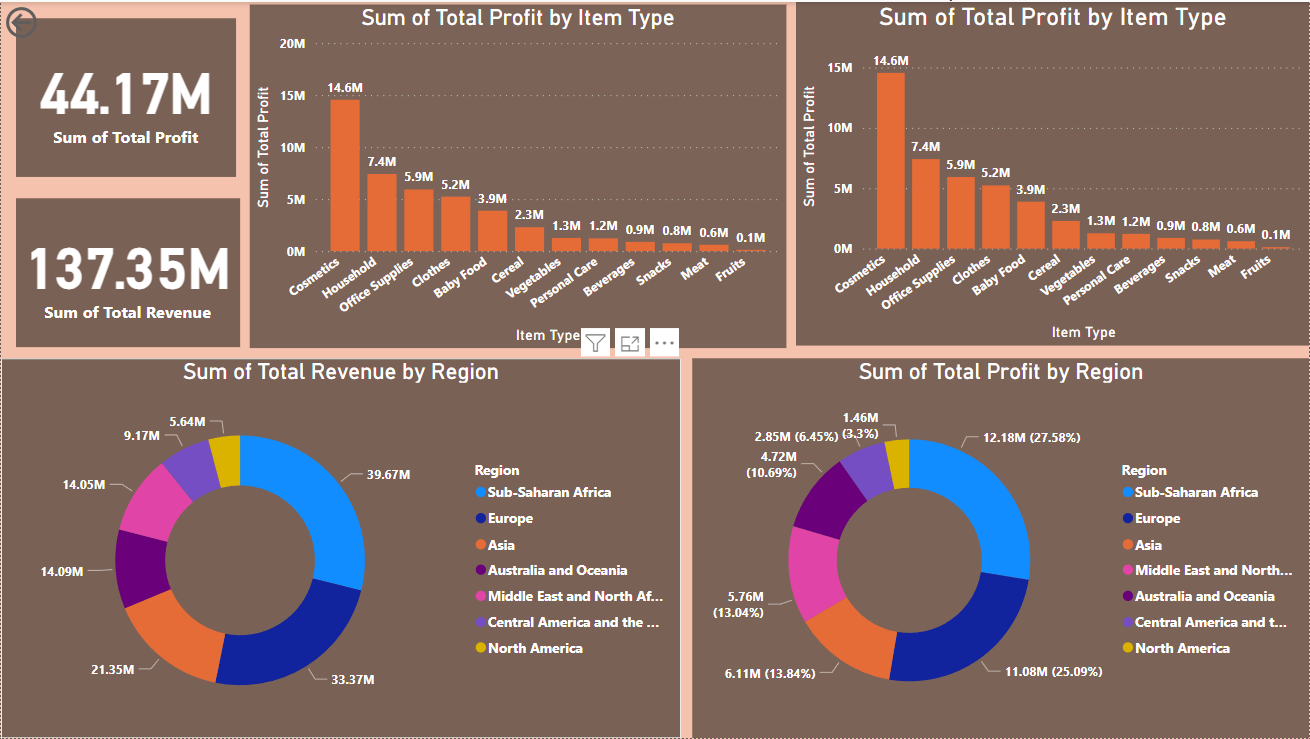

The page's visual inventory and layout, read from the dashboard file:
{"tool":"powerbi","page":{"name":"Analyzing_Amazon_Sales_data","canvas":[1280,720],"ordinal":1},"visuals":[{"type":"columnChart","fields":{"Category":["Amazon Sales data.Item Type"],"Y":["Sum(Amazon Sales data.Total Profit)"]},"box":[243.3,2.4,524.4,336.2],"z":0},{"type":"clusteredColumnChart","fields":{"Category":["Amazon Sales data.Item Type"],"Y":["Sum(Amazon Sales data.Total Profit)"]},"box":[777.5,0,502.4,336.2],"z":1000},{"type":"donutChart","fields":{"Category":["Amazon Sales data.Region"],"Y":["Sum(Amazon Sales data.Total Revenue)"]},"box":[0,348.4,665,371.6],"z":2000},{"type":"donutChart","fields":{"Category":["Amazon Sales data.Region"],"Y":["Sum(Amazon Sales data.Total Profit)"]},"box":[676,348.4,603.9,371.6],"z":3000},{"type":"card","fields":{"Values":["Sum(Amazon Sales data.Total Profit)"]},"box":[14.7,15.9,215.1,155.2],"z":4000},{"type":"card","fields":{"Values":["Sum(Amazon Sales data.Total Revenue)"]},"box":[14.7,191.9,218.8,145.5],"z":5000},{"type":"actionButton","box":[0,0,100,40],"z":6000}]}

Visuals, with their boxes in screenshot pixels (x1, y1, x2, y2), scaled from the page's 1280x720 canvas onto the 1310x739 screenshot:
columnChart - Amazon Sales data.Item Type x Sum(Amazon Sales data.Total Profit): [249,2,786,348]
clusteredColumnChart - Amazon Sales data.Item Type x Sum(Amazon Sales data.Total Profit): [796,0,1309,345]
donutChart - Amazon Sales data.Region x Sum(Amazon Sales data.Total Revenue): [0,358,681,738]
donutChart - Amazon Sales data.Region x Sum(Amazon Sales data.Total Profit): [692,358,1309,738]
card - Sum(Amazon Sales data.Total Profit): [15,16,235,176]
card - Sum(Amazon Sales data.Total Revenue): [15,197,239,346]
actionButton: [0,0,102,41]
